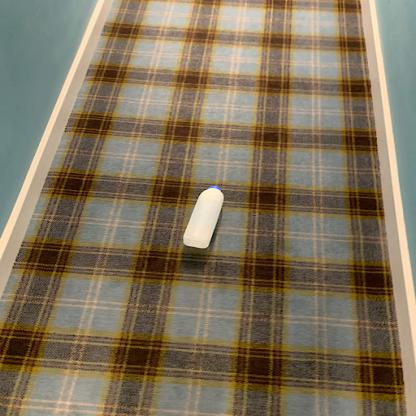trash: (180, 186, 225, 250)
